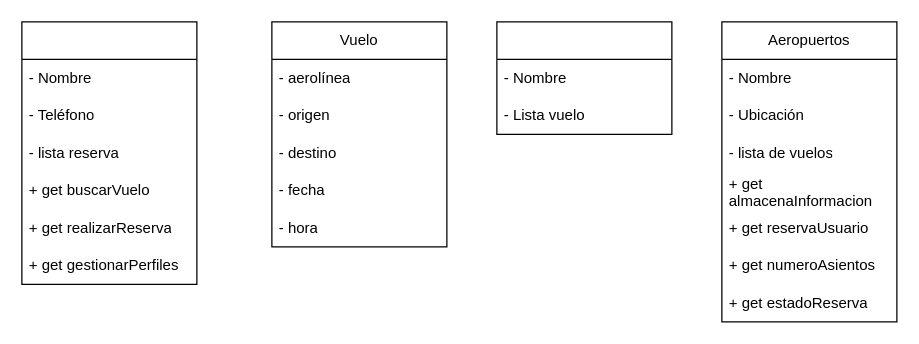
This 919x344 diagram has some shape labels left out. Here are the shapes that lost their labels. From the top down, the box of each, then its label:
(496, 21, 672, 134): Aerolínea
(21, 21, 197, 284): Usuario del sistema
